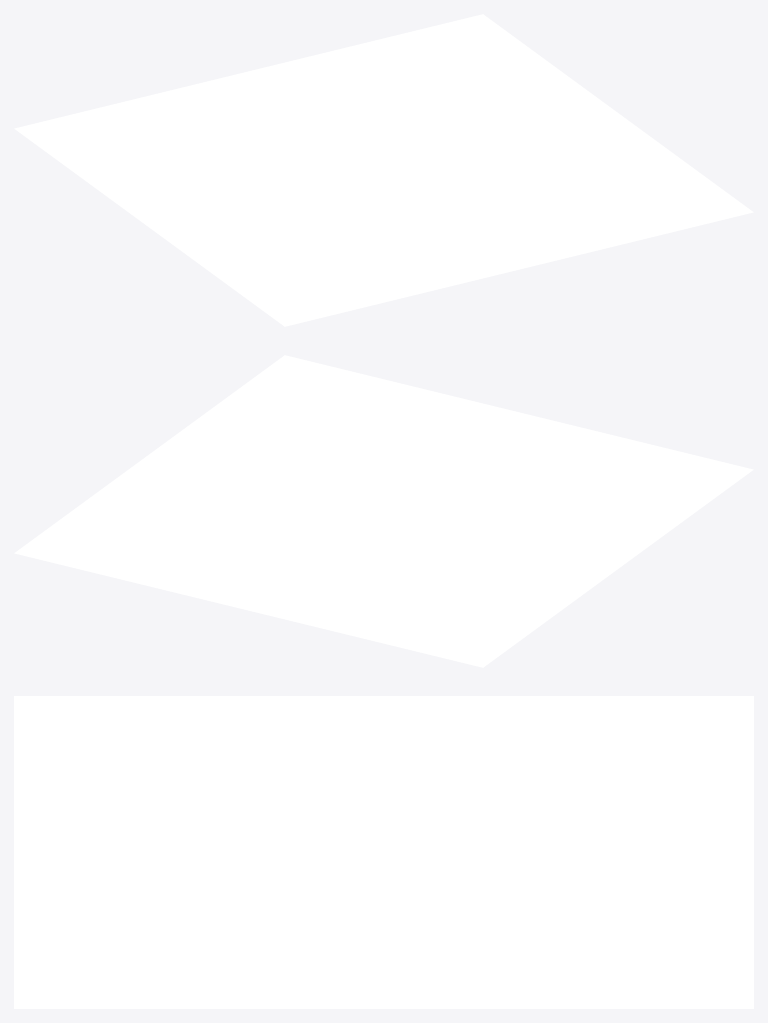
File: TC7.glb.gltf
The picture shows the model from 3 angles, top to bottom: view 1: azimuth 30°, elevation 25°; view 2: azimuth 150°, elevation 25°; view 3: azimuth 270°, elevation 25°; orthographic projection. The views are drawn at different scales.
Parts seen in each view (by area): view 1: Plane.010; view 2: Plane.010; view 3: Plane.010.
Part boxes in pixels (x1=…): Plane.010: x1=14, y1=14, x2=753, y2=326; Plane.010: x1=14, y1=355, x2=753, y2=667; Plane.010: x1=14, y1=696, x2=753, y2=1008.
Size of the model in its own units: 2 by 0 by 2.
1 material, 1 textured.
